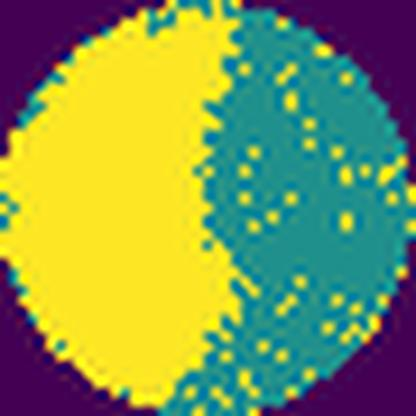Edge-Loc: (0, 0, 259, 416)
